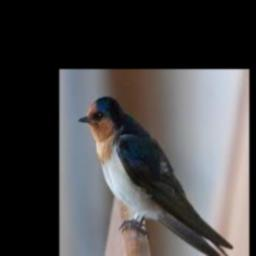Swallow: (78, 95, 246, 256)
